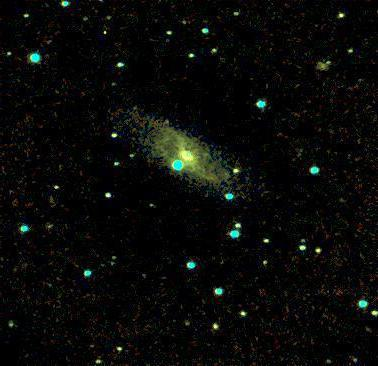star: (306, 50, 336, 80)
